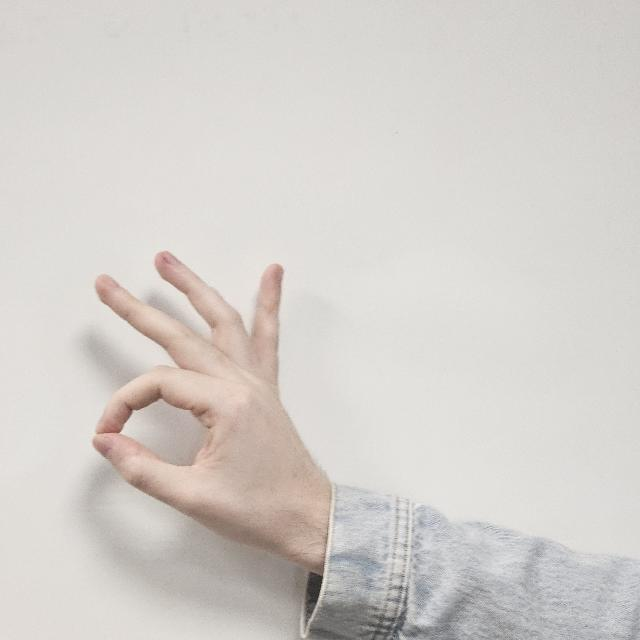Bolinha: (79, 237, 327, 611)
